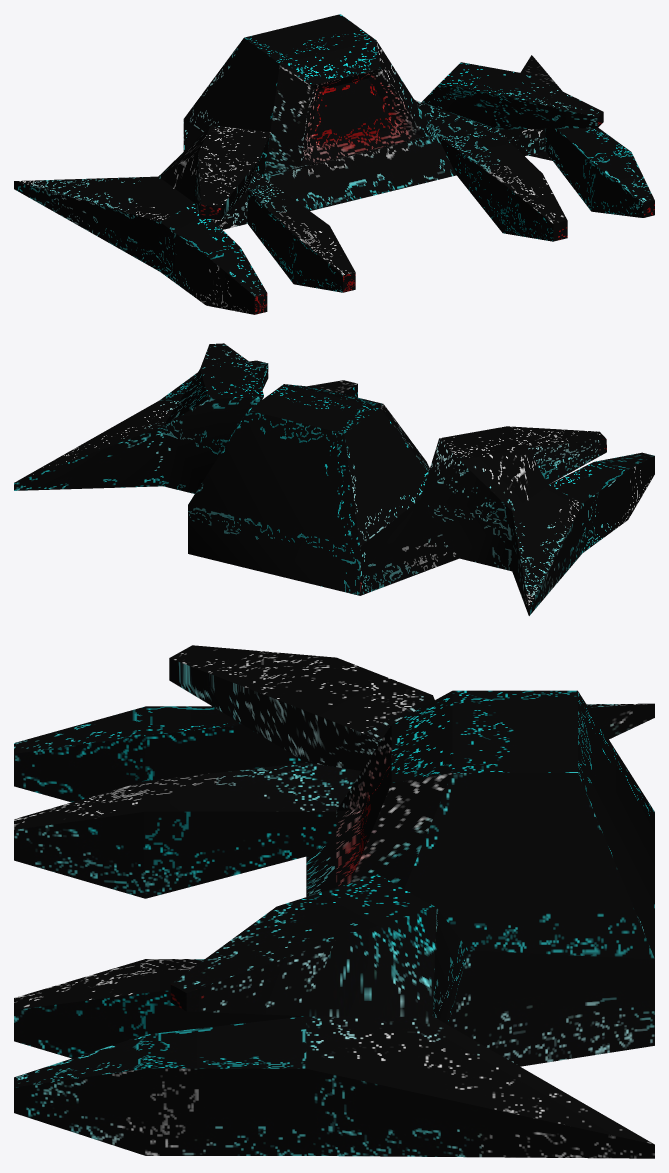
File: Boss2.dae
3 views of the same model, one above another, from view 1: azimuth 30°, elevation 25°; view 2: azimuth 150°, elevation 25°; view 3: azimuth 270°, elevation 25° (orthographic). The views are drawn at different scales.
Parts seen in each view (by area): view 1: pCube1; view 2: pCube1; view 3: pCube1.
Boxes of the visible parts, x1,y1,x2,y2 form: pCube1: [14, 14, 654, 314]; pCube1: [14, 343, 654, 615]; pCube1: [14, 645, 654, 1158].
Bounding box in the file's own units: 17.92 × 4.56 × 11.01.
Materials: 1 (1 with a texture image).
